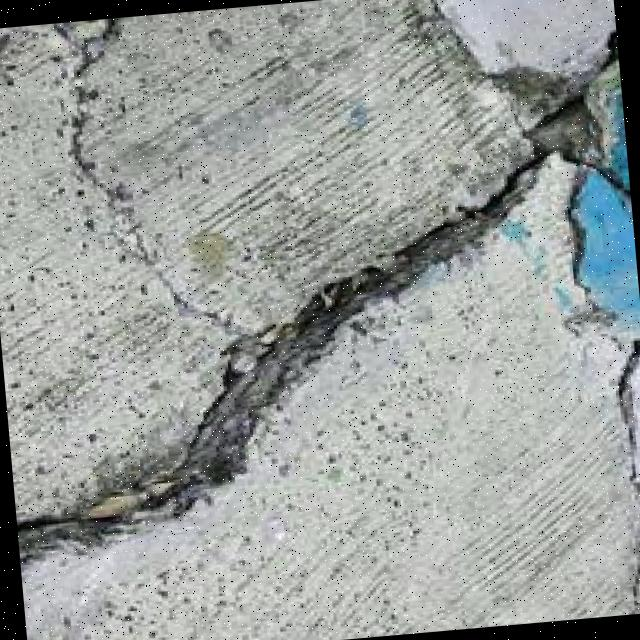road collapse: (0, 0, 608, 619)
